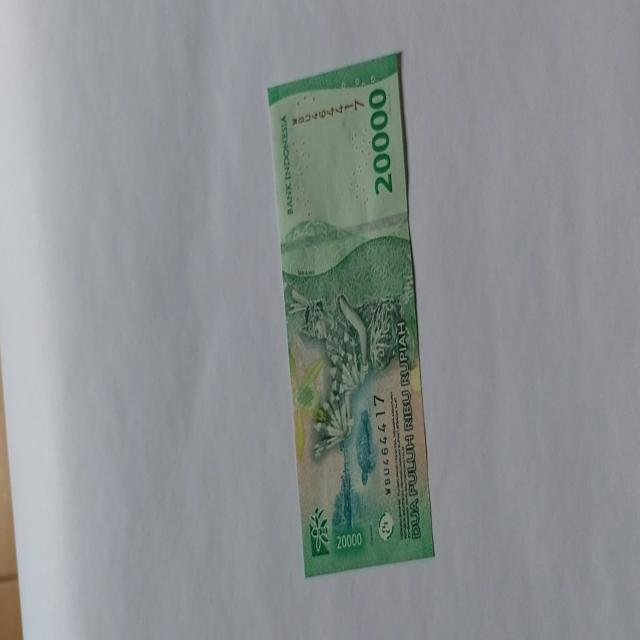dua puluh ribu rupiah: (265, 50, 435, 578)
